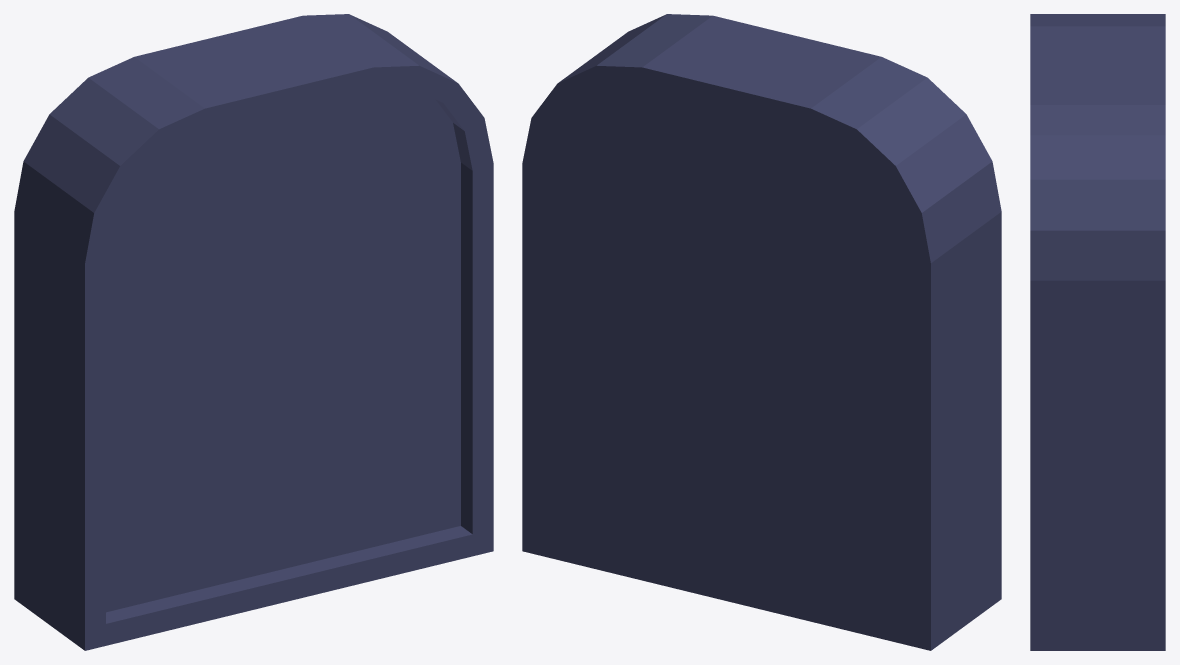
File: Stone3.fbx
The picture shows the model from 3 angles, left to right: view 1: azimuth 30°, elevation 25°; view 2: azimuth 150°, elevation 25°; view 3: azimuth 270°, elevation 25°; orthographic projection. The views are drawn at different scales.
Parts seen in each view (by area): view 1: stone3; view 2: stone3; view 3: stone3.
Boxes of the visible parts, box(x1,y1,x2,y2) form: stone3: box(14, 14, 493, 650); stone3: box(522, 14, 1001, 650); stone3: box(1030, 14, 1165, 650).
Size of the model in its own units: 200 by 240 by 60.
